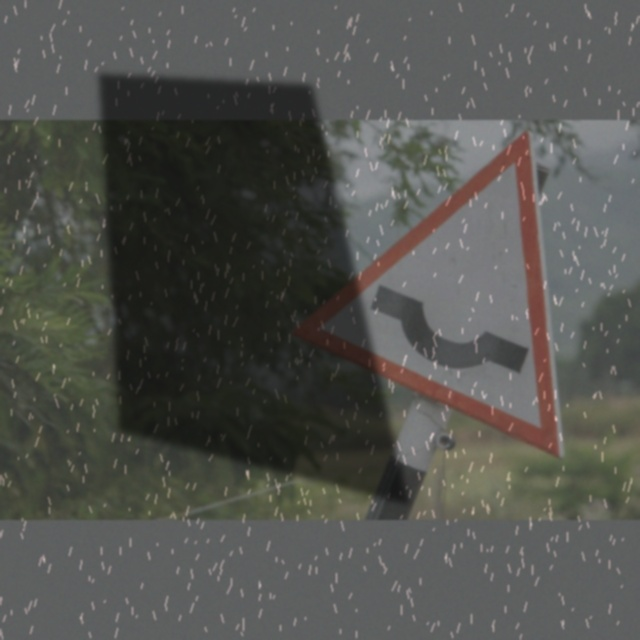Dangerous_Dip: (289, 134, 572, 441)
